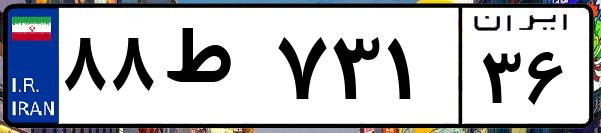1: (385, 28, 445, 110)
3: (330, 28, 385, 110), (475, 38, 525, 113)
6: (525, 38, 570, 115)
7: (270, 28, 330, 110)
8: (57, 26, 110, 100), (110, 28, 158, 98)
ط: (158, 20, 270, 120)
